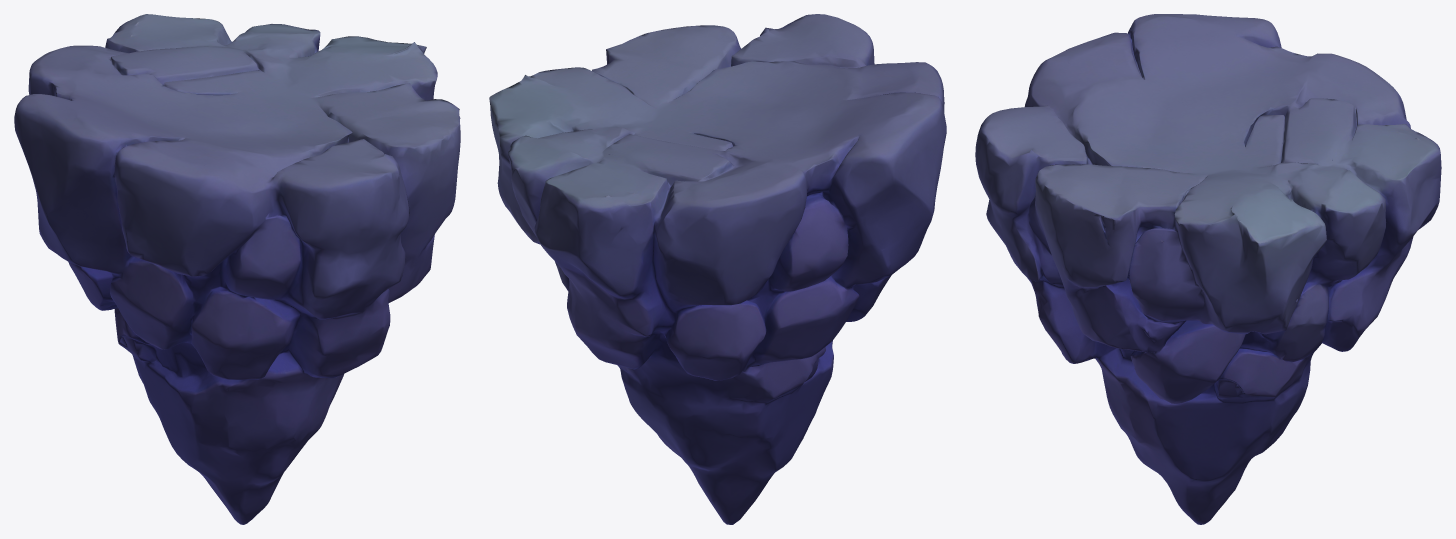
3 renders of one model, left to right at view 1: azimuth 30°, elevation 25°; view 2: azimuth 150°, elevation 25°; view 3: azimuth 270°, elevation 25°, orthographic. The views are drawn at different scales.
Visible parts, largest first — view 1: Mesh::generatedModels/5ZiWc81QflgnasxRuTHS.gltf; view 2: Mesh::generatedModels/5ZiWc81QflgnasxRuTHS.gltf; view 3: Mesh::generatedModels/5ZiWc81QflgnasxRuTHS.gltf.
Boxes of the visible parts, left/top/right/bottom form: Mesh::generatedModels/5ZiWc81QflgnasxRuTHS.gltf: left=14, top=14, right=460, bottom=524; Mesh::generatedModels/5ZiWc81QflgnasxRuTHS.gltf: left=489, top=14, right=946, bottom=524; Mesh::generatedModels/5ZiWc81QflgnasxRuTHS.gltf: left=975, top=14, right=1441, bottom=524.
Size of the model in its own units: 0.9548 by 1 by 0.9852.
1 material, 1 textured.
